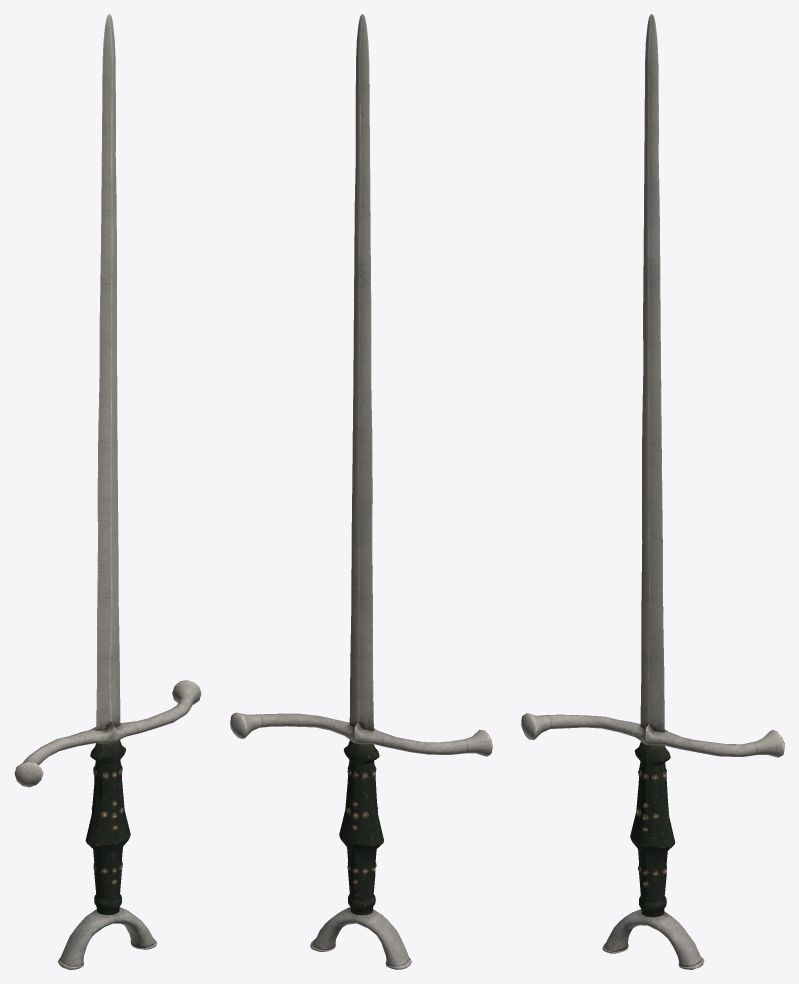
File: ph_antique_estoc.glb
The picture shows the model from 3 angles, left to right: view 1: azimuth 30°, elevation 25°; view 2: azimuth 150°, elevation 25°; view 3: azimuth 330°, elevation 25°; orthographic projection.
Visible parts, largest first — view 1: antique_estoc; view 2: antique_estoc; view 3: antique_estoc.
Boxes of the visible parts, box(x1,y1,x2,y2) form: antique_estoc: box(14, 14, 201, 969); antique_estoc: box(230, 14, 492, 969); antique_estoc: box(521, 14, 784, 969).
Bounding box in the file's own units: 0.3717 × 1.49 × 0.1487.
Materials: 1 (1 with a texture image).
